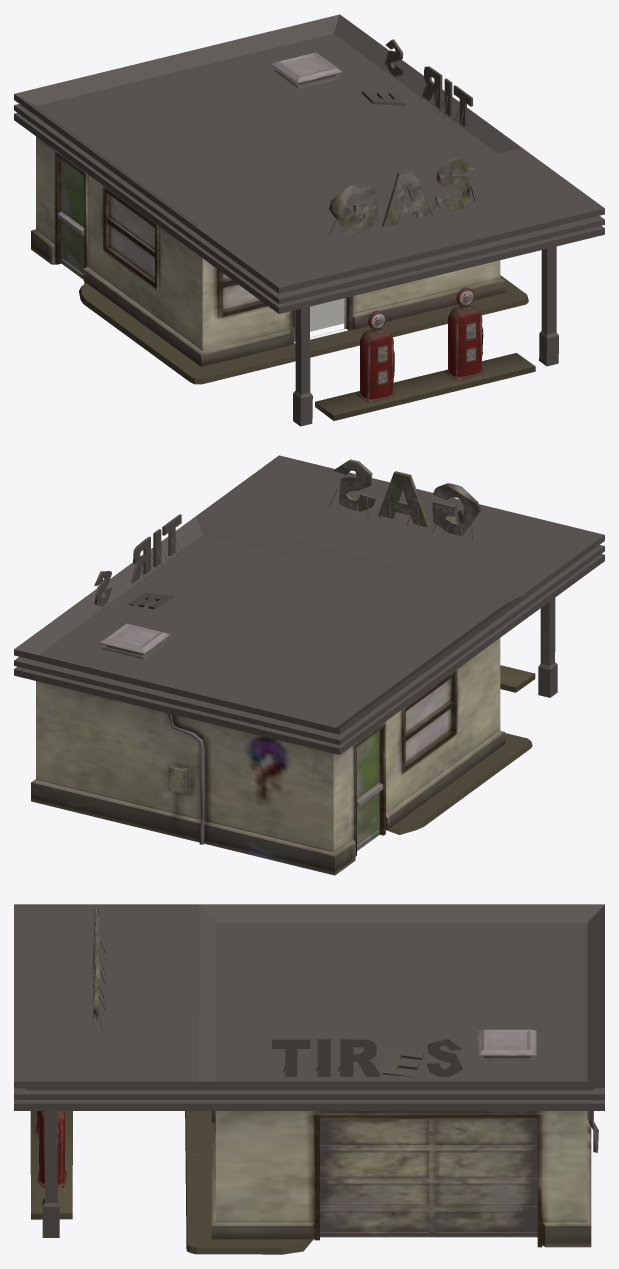
File: roadside-gas.zfix-v14.lod1.glb
The picture shows the model from 3 angles, top to bottom: view 1: azimuth 30°, elevation 25°; view 2: azimuth 150°, elevation 25°; view 3: azimuth 270°, elevation 25°; orthographic projection. The views are drawn at different scales.
Parts seen in each view (by area): view 1: Brick_A:Brick_Single_Geo_Single_Brick_0, Gas_Station_Model:Gas_Station_Body_main_shader_0, GAS_Sign:Supports_GAS_SIgn_0, Gas_Pump:Body_Geo_Pump_Main_Shader_0, Gas_Station_Model:polySurface3_Building_Extra_Shader_0, Gas_Pump:Pump_Top_Sign_Geo_pump_misc_shader_0; view 2: Brick_A:Brick_Single_Geo_Single_Brick_0, Gas_Station_Model:Gas_Station_Body_main_shader_0, Gas_Station_Model:polySurface3_Building_Extra_Shader_0, GAS_Sign:Supports_GAS_SIgn_0; view 3: Brick_A:Brick_Single_Geo_Single_Brick_0, Gas_Station_Model:polySurface3_Building_Extra_Shader_0, Gas_Station_Model:Gas_Station_Body_main_shader_0, Gas_Pump:Body_Geo_Pump_Main_Shader_0, GAS_Sign:Supports_GAS_SIgn_0.
Part boxes in pixels (x1=…): Brick_A:Brick_Single_Geo_Single_Brick_0: x1=14, y1=14, x2=604, y2=426; Gas_Station_Model:Gas_Station_Body_main_shader_0: x1=31, y1=136, x2=505, y2=366; GAS_Sign:Supports_GAS_SIgn_0: x1=329, y1=157, x2=475, y2=235; Gas_Pump:Body_Geo_Pump_Main_Shader_0: x1=357, y1=306, x2=484, y2=402; Gas_Station_Model:polySurface3_Building_Extra_Shader_0: x1=57, y1=52, x2=346, y2=341; Gas_Pump:Pump_Top_Sign_Geo_pump_misc_shader_0: x1=368, y1=287, x2=483, y2=377; Brick_A:Brick_Single_Geo_Single_Brick_0: x1=14, y1=455, x2=604, y2=834; Gas_Station_Model:Gas_Station_Body_main_shader_0: x1=31, y1=638, x2=505, y2=875; Gas_Station_Model:polySurface3_Building_Extra_Shader_0: x1=98, y1=623, x2=383, y2=850; GAS_Sign:Supports_GAS_SIgn_0: x1=329, y1=459, x2=480, y2=542; Brick_A:Brick_Single_Geo_Single_Brick_0: x1=14, y1=904, x2=604, y2=1254; Gas_Station_Model:polySurface3_Building_Extra_Shader_0: x1=320, y1=1029, x2=598, y2=1237; Gas_Station_Model:Gas_Station_Body_main_shader_0: x1=211, y1=1111, x2=591, y2=1247; Gas_Pump:Body_Geo_Pump_Main_Shader_0: x1=35, y1=1111, x2=66, y2=1187; GAS_Sign:Supports_GAS_SIgn_0: x1=92, y1=907, x2=105, y2=1032.
Bounding box in the file's own units: 12.84 × 7.47 × 17.41.
6 materials, 5 textured.
